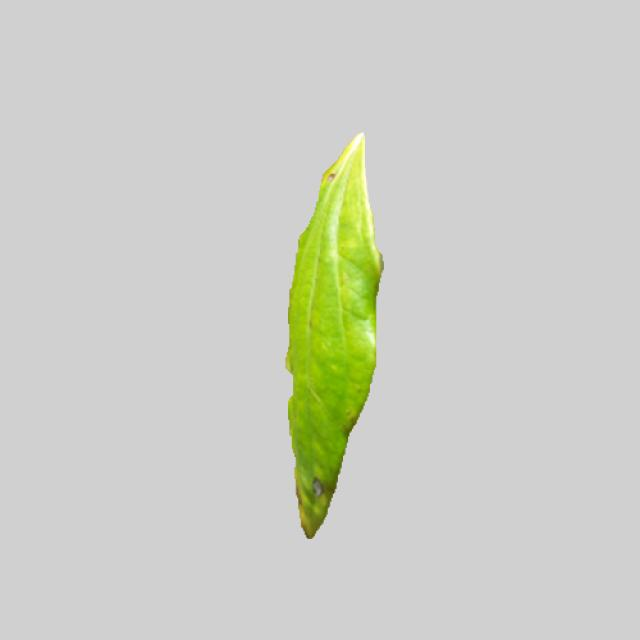yellow-mottle-virus: (273, 129, 384, 540)
